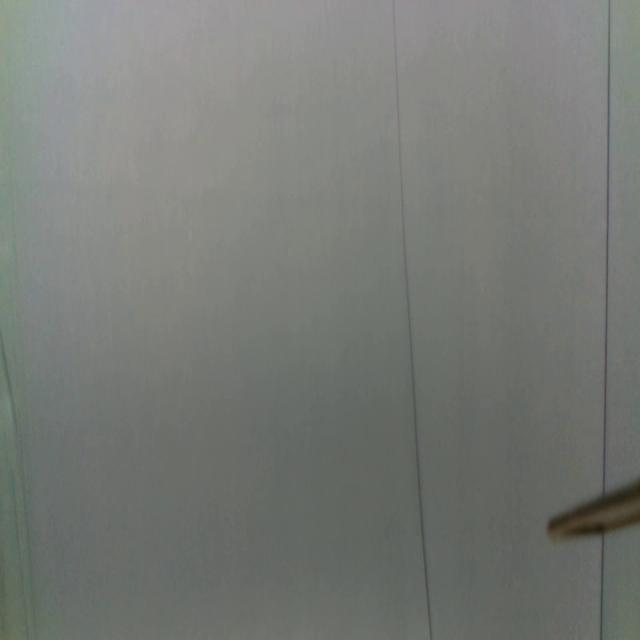crease: (392, 0, 435, 637), (1, 327, 40, 640), (601, 0, 613, 492), (596, 535, 607, 640)
